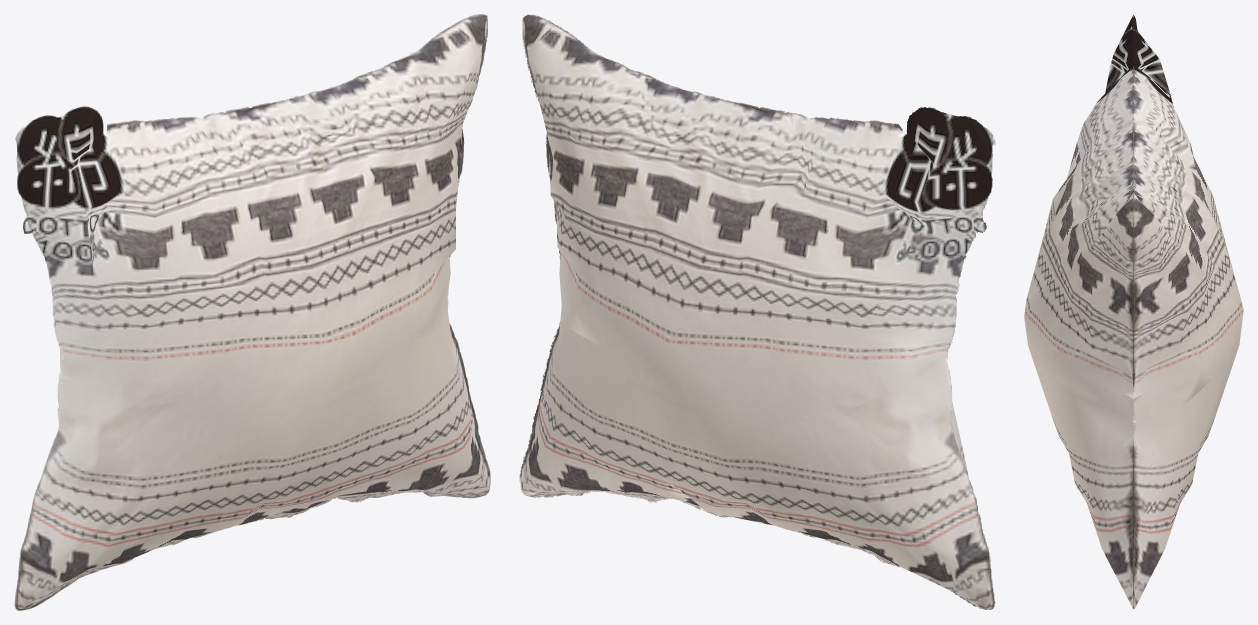
3 views of the same model, side by side, from view 1: azimuth 30°, elevation 25°; view 2: azimuth 150°, elevation 25°; view 3: azimuth 270°, elevation 25° (orthographic). The views are drawn at different scales.
Visible parts, largest first — view 1: obj_002_obj.004_0; view 2: obj_002_obj.004_0; view 3: obj_002_obj.004_0.
Part boxes in pixels (x1,y1,x2,y2): obj_002_obj.004_0: [14, 14, 490, 610]; obj_002_obj.004_0: [519, 14, 995, 609]; obj_002_obj.004_0: [1024, 14, 1243, 609].
Size of the model in its own units: 98.91 by 97.1 by 46.79.
1 material, 1 textured.
